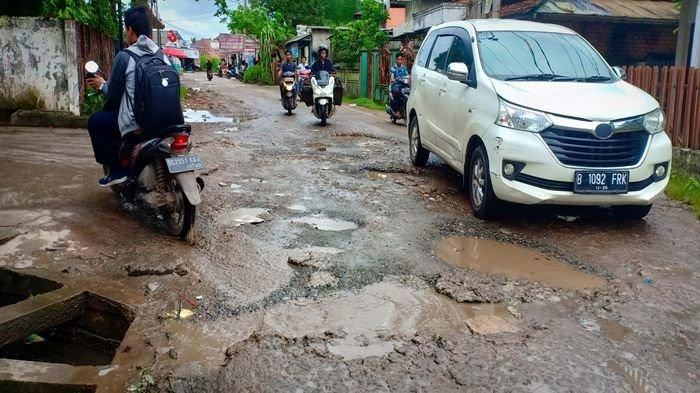Pothole: (0, 251, 164, 390), (313, 113, 489, 231), (403, 224, 638, 304), (199, 158, 375, 259), (168, 270, 503, 310), (177, 96, 265, 144)
